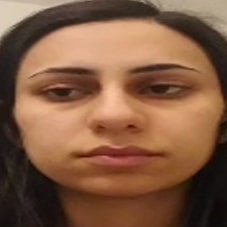drowsy: (25, 58, 207, 170)
